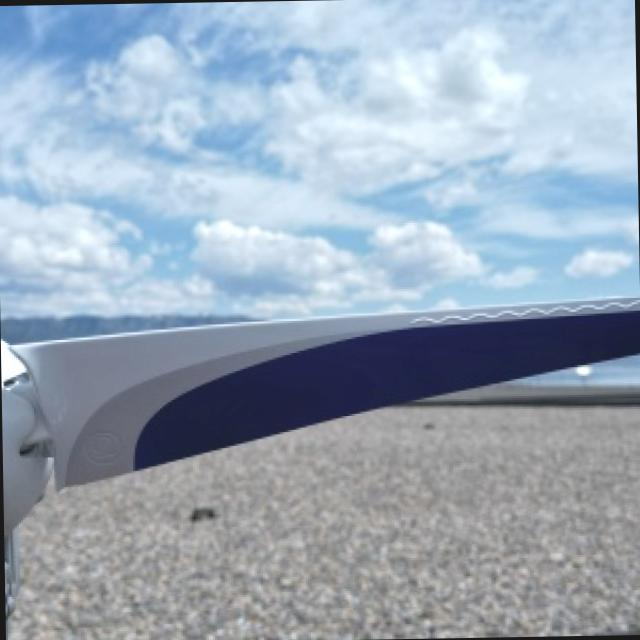healthy: (12, 406, 640, 640)
